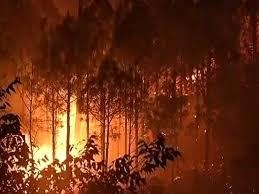fire: (20, 97, 89, 177)
